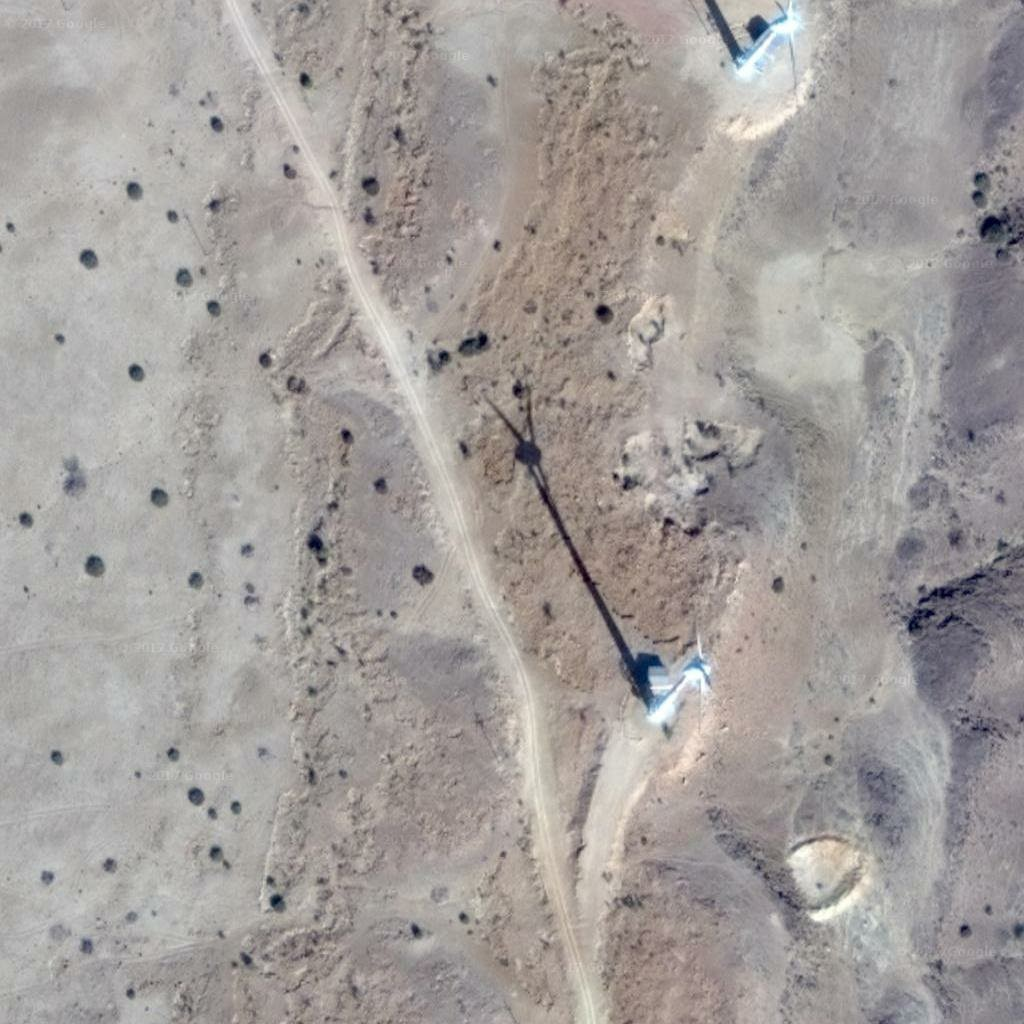Windmill: (471, 390, 660, 690)
